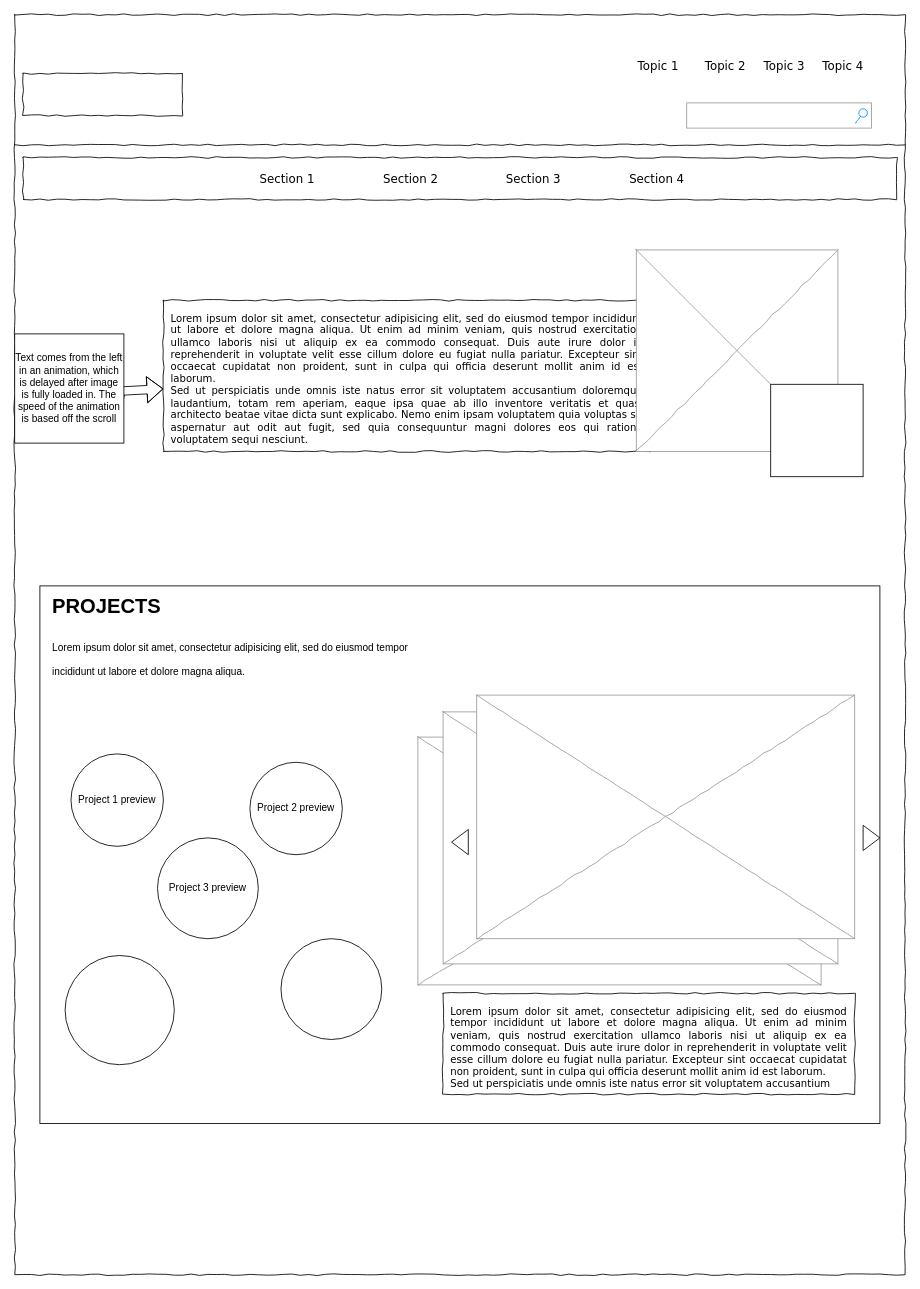
The diagram is 920 pixels wide and 1289 high, and some of its shapes have lost their labels. The centre of each missing label's shape, as x and y in pixels:
"LOGO" goes at point (102, 94).
"Search" goes at point (779, 115).
"The Image will fade in as the user scrolls" goes at point (816, 430).
